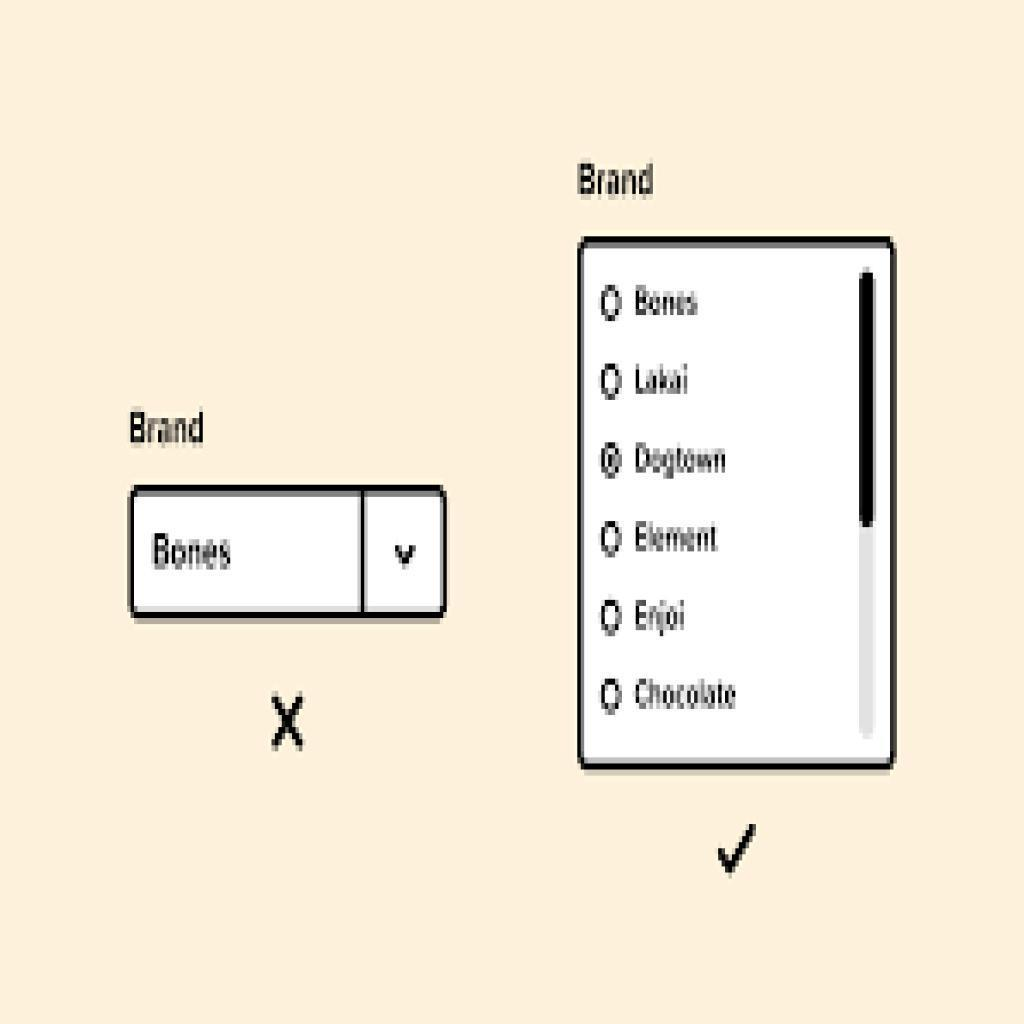dropdown: (133, 487, 447, 621)
radio: (596, 512, 625, 566), (597, 433, 625, 481), (599, 356, 626, 403), (596, 596, 625, 638), (601, 673, 623, 724), (599, 283, 623, 327)
